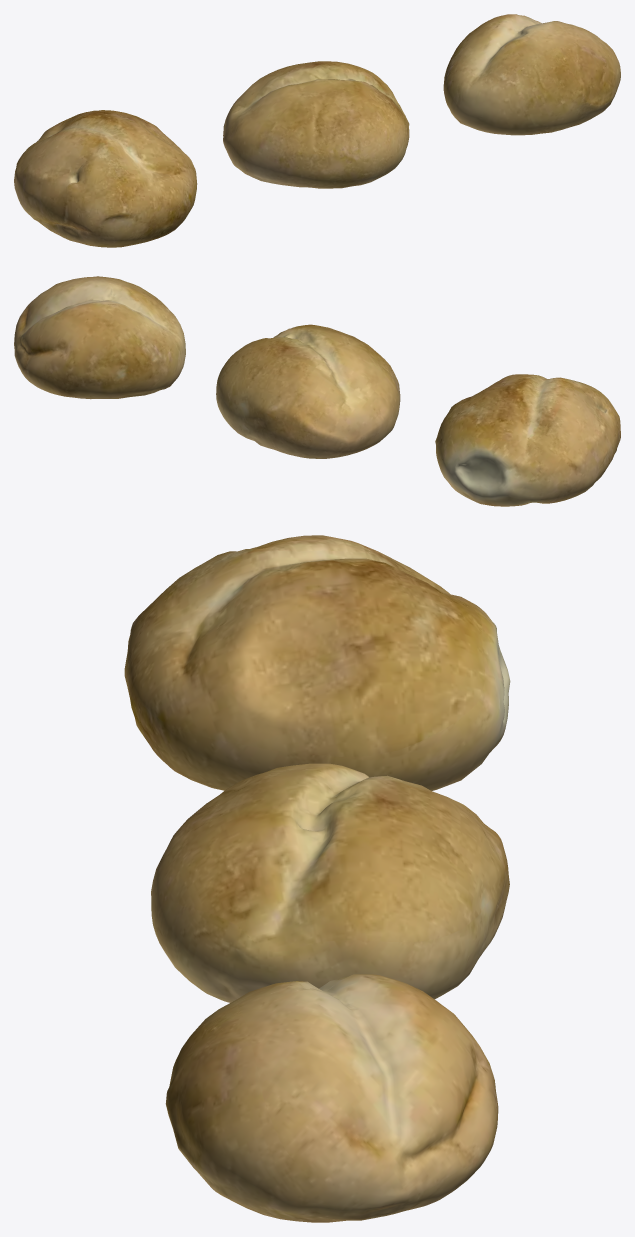
The model's file is bread.glb.
3 views of the same model, one above another, from view 1: azimuth 30°, elevation 25°; view 2: azimuth 150°, elevation 25°; view 3: azimuth 270°, elevation 25° (orthographic). The views are drawn at different scales.
Visible parts, largest first — view 1: hamburger_buns_01; view 2: hamburger_buns_01; view 3: hamburger_buns_01.
Boxes of the visible parts, x1,y1,x2,y2 form: hamburger_buns_01: (14, 14, 620, 247); hamburger_buns_01: (14, 276, 620, 506); hamburger_buns_01: (124, 535, 510, 1222).
Bounding box in the file's own units: 0.3972 × 0.0634 × 0.1138.
1 material, 1 textured.
